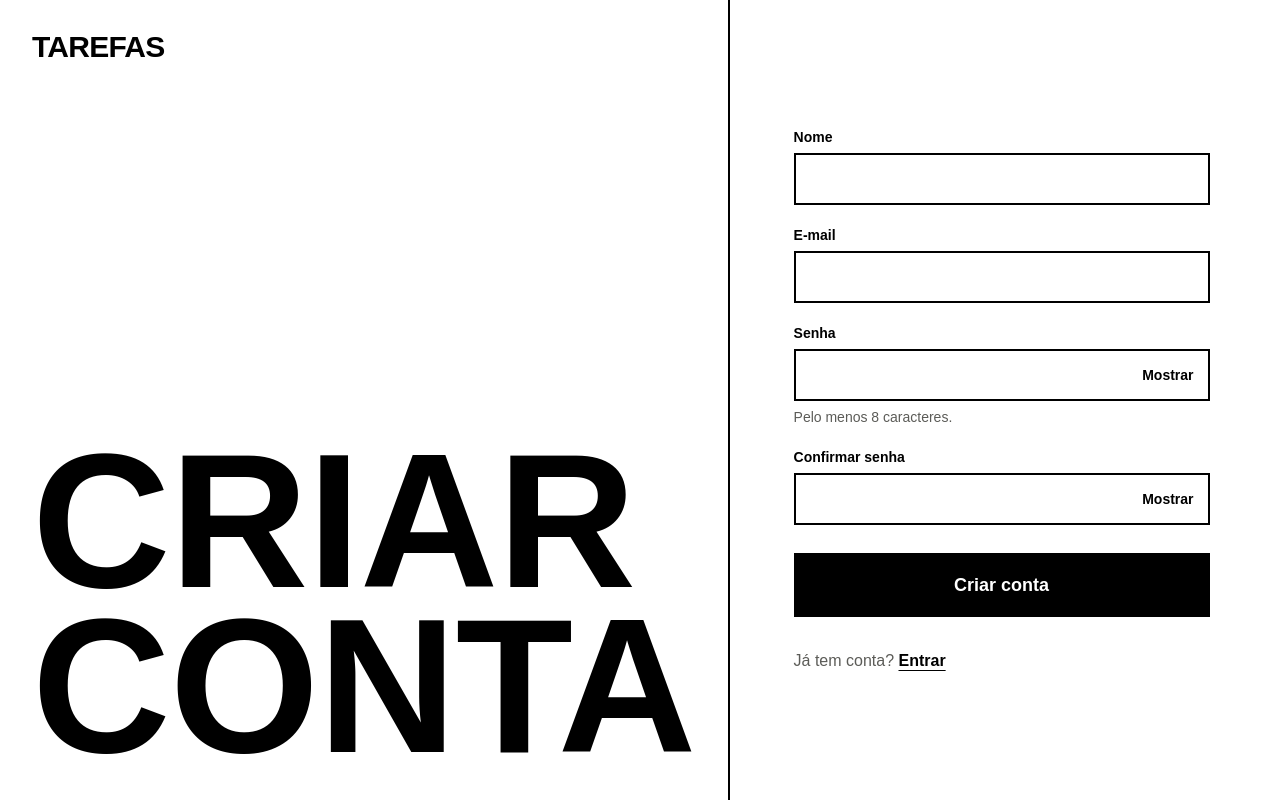
Scenario: cadastro › mostra o erro de cada campo devolvido pela API
In the field labelled "Nome": (1002, 179) [794, 153, 1210, 205], type "Ana"
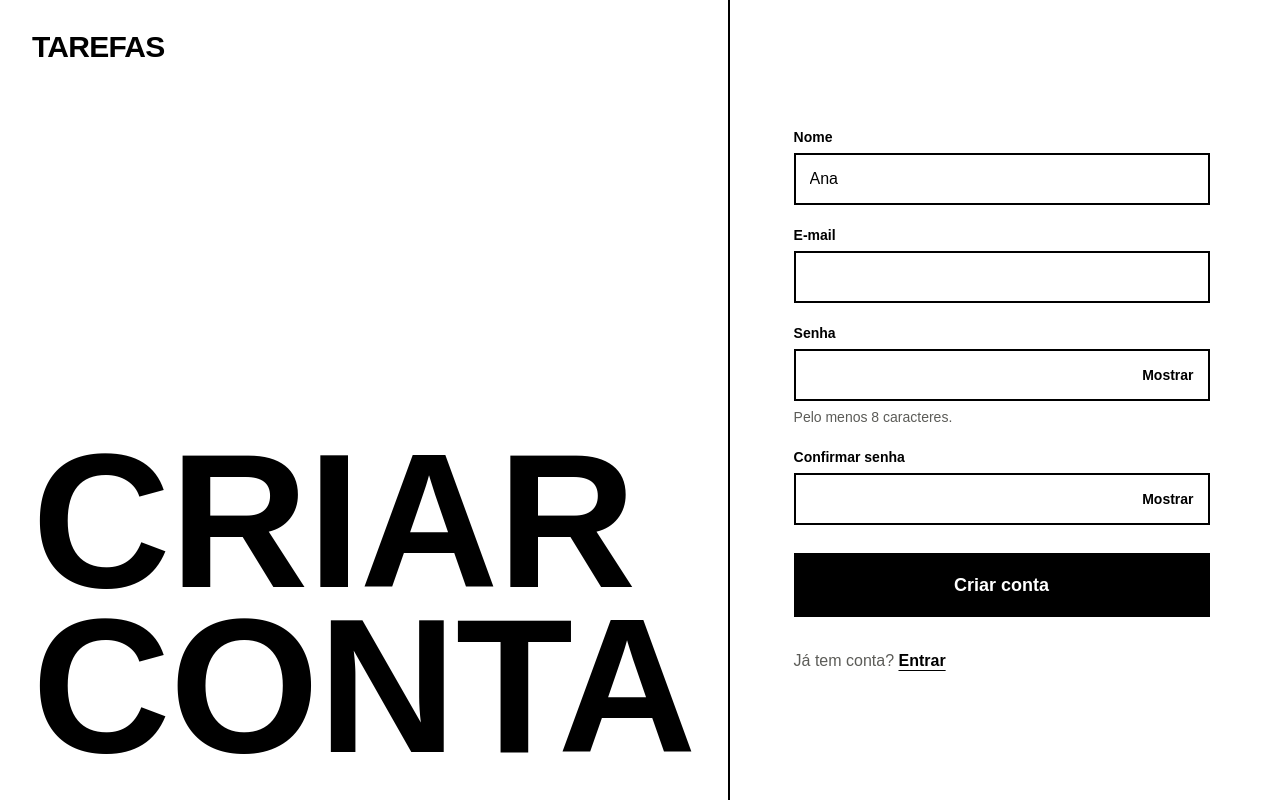
In the field labelled "E-mail": (1002, 277) [794, 251, 1210, 303], type "ana@exemplo.com"
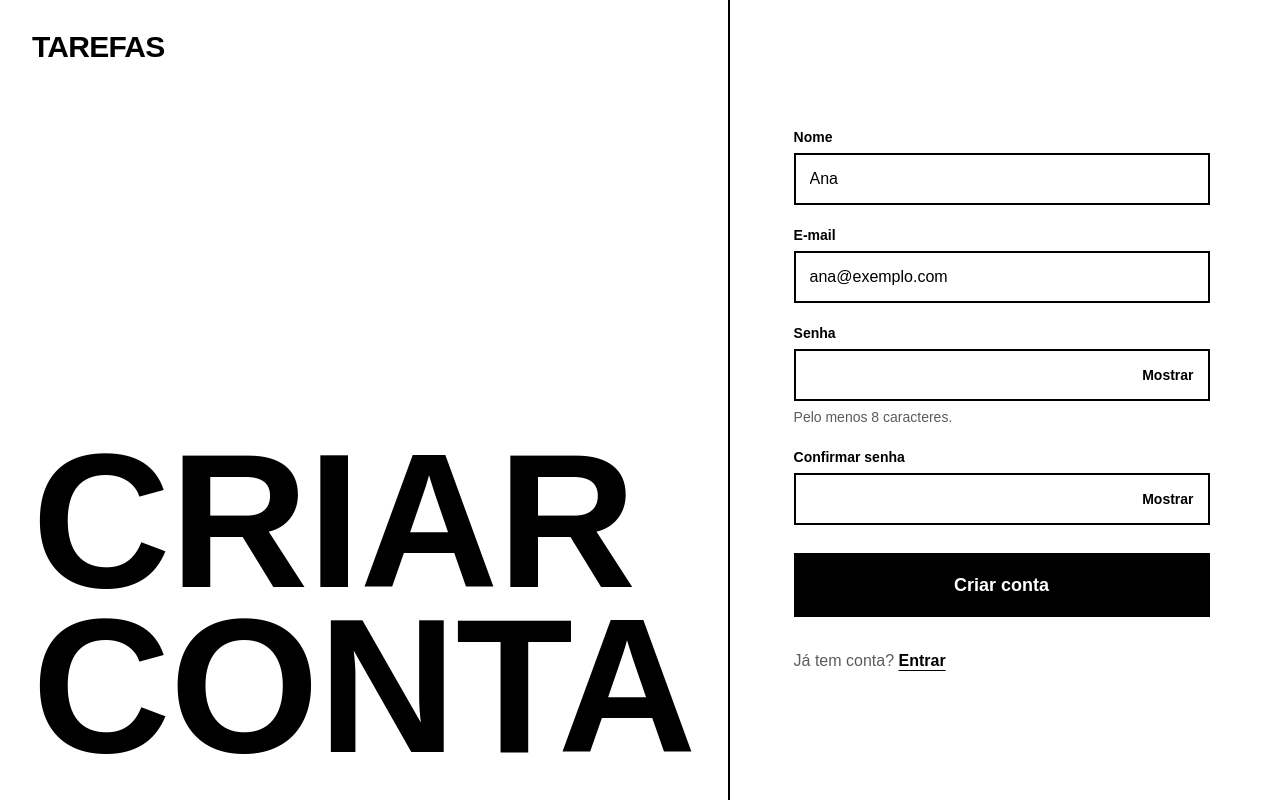
In the password field labelled "Senha": (1002, 375) [794, 349, 1210, 401], type "123"
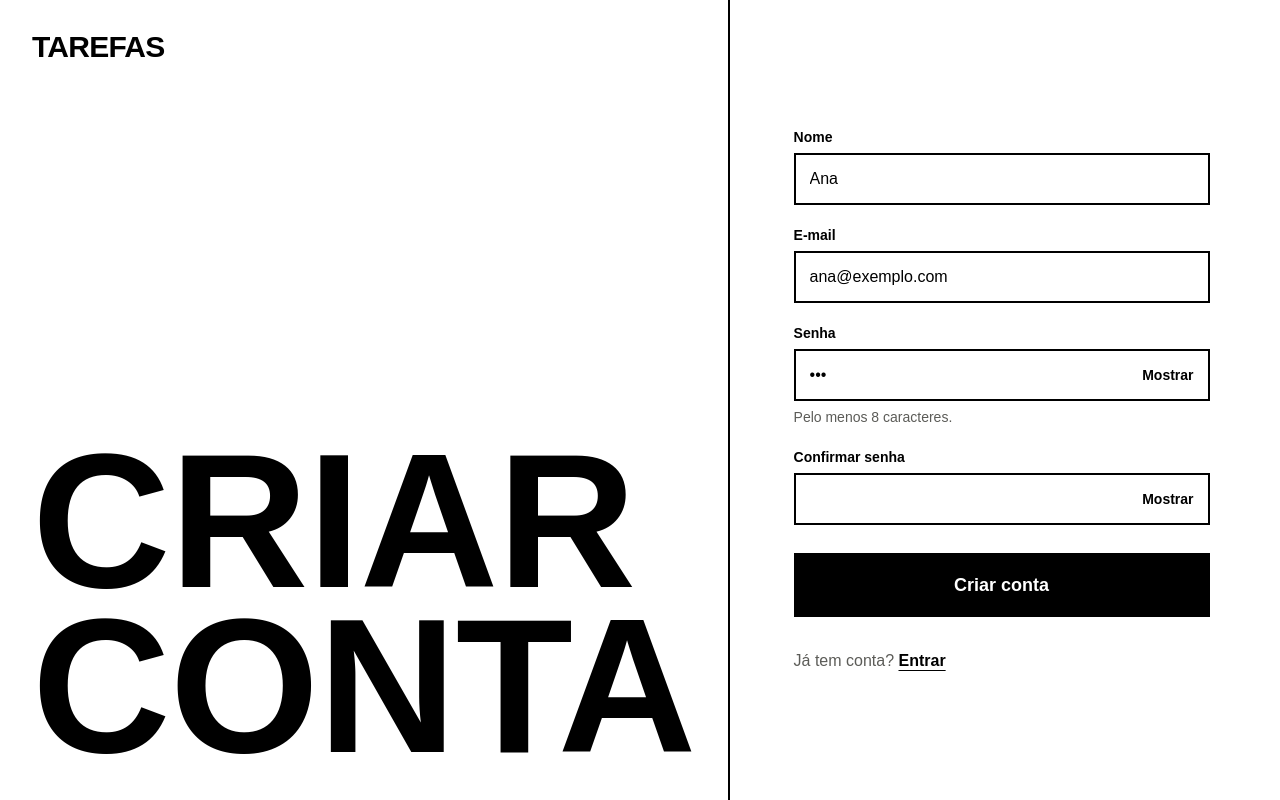
In the password field labelled "Confirmar senha": (1002, 499) [794, 473, 1210, 525], type "123"
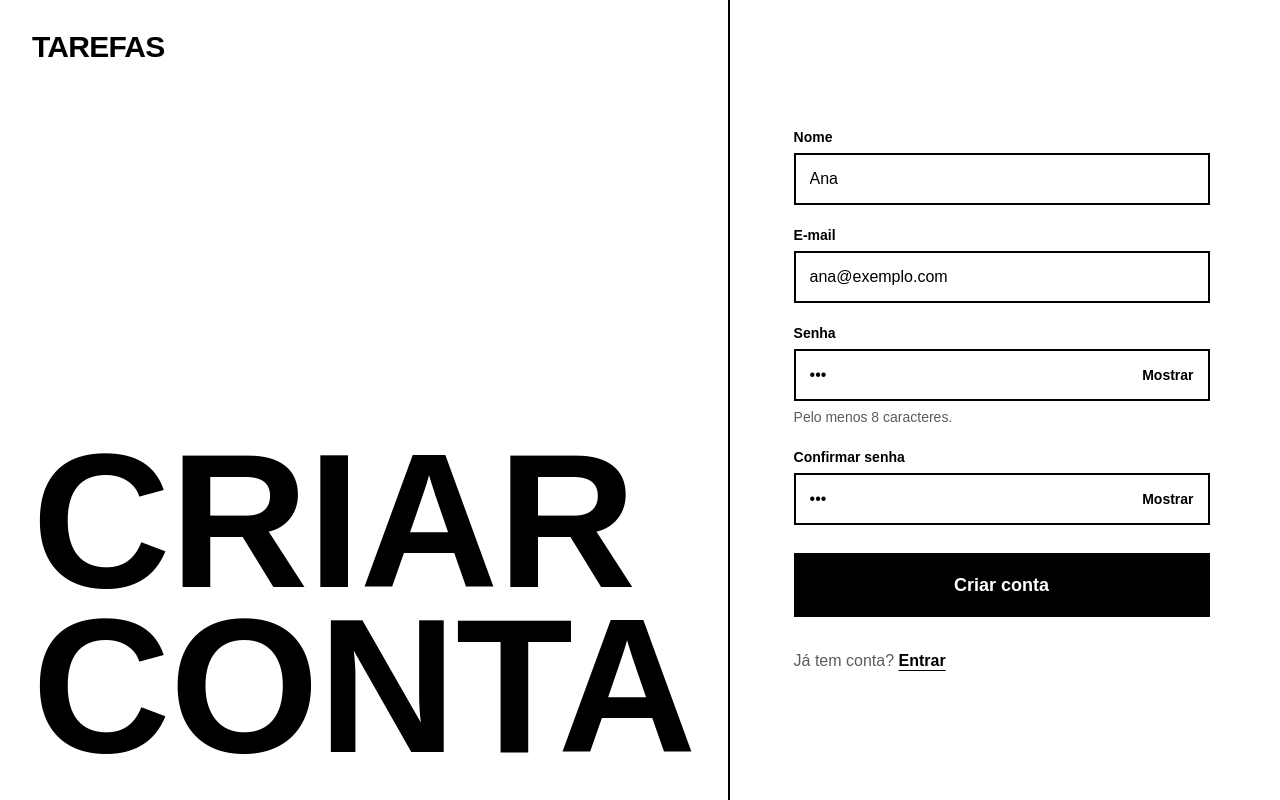
Click the button "Criar conta": (1002, 585) [794, 553, 1210, 617]
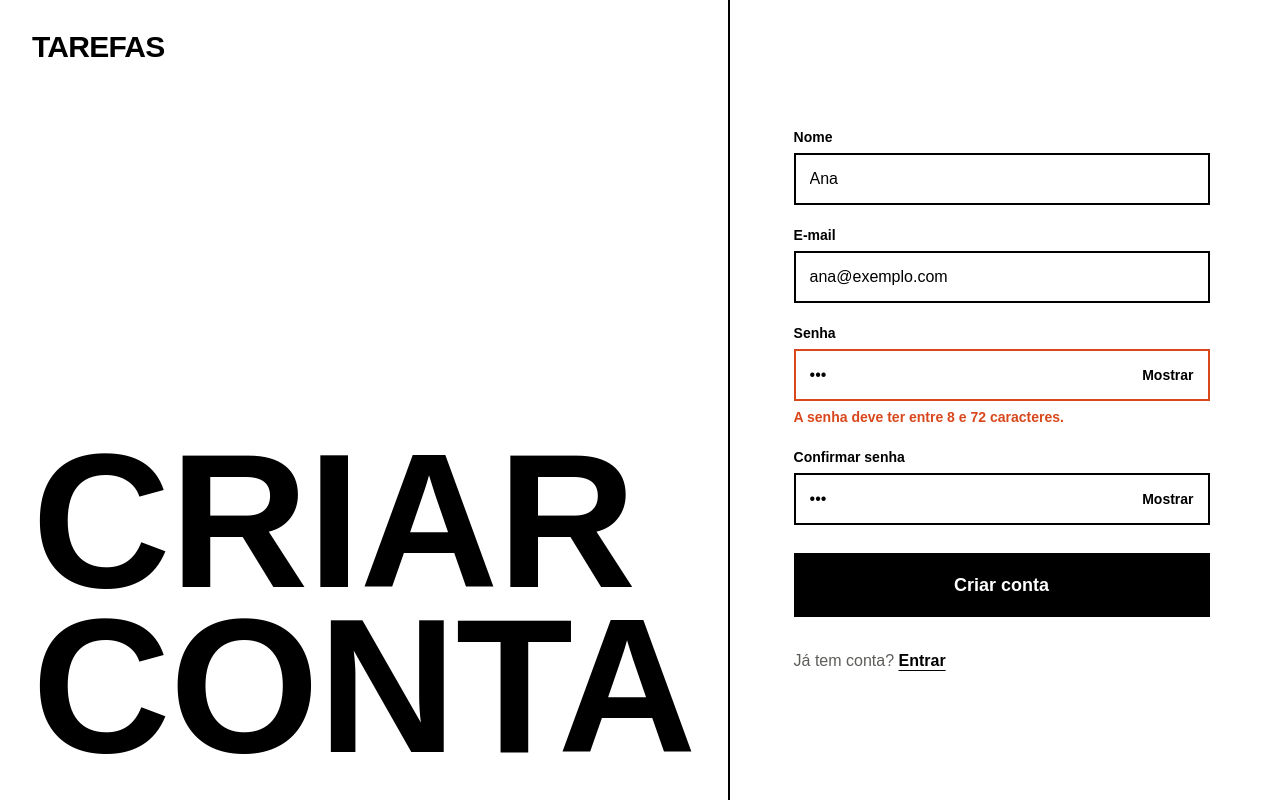
Check: the text "A senha deve ter entre 8 e 72 caracteres." is shown, box [794, 409, 1064, 425]
